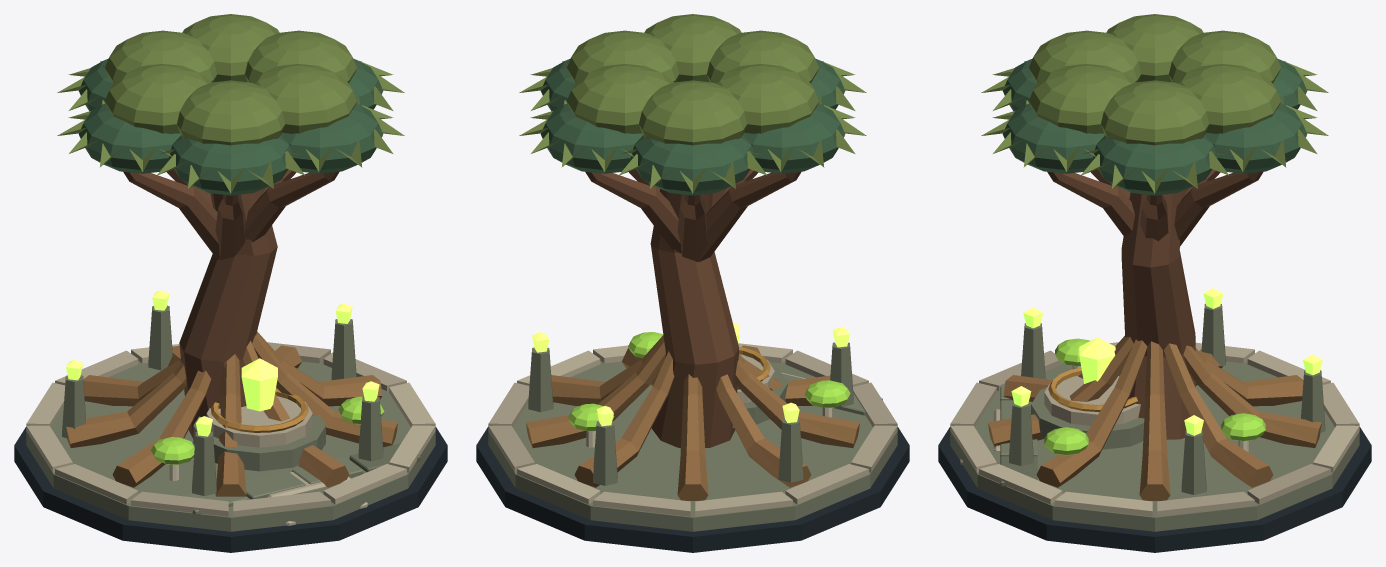
Rendered from nature__bosque__L10.glb.
The picture shows the model from 3 angles, left to right: view 1: azimuth 30°, elevation 25°; view 2: azimuth 150°, elevation 25°; view 3: azimuth 270°, elevation 25°; orthographic projection.
Parts seen in each view (by area): view 1: structure, weapon; view 2: structure; view 3: structure, weapon.
Part boxes in pixels (x1,y1,x2,y2): structure: (14,14,447,552); weapon: (241,358,277,411); structure: (476,14,909,552); structure: (938,14,1371,552); weapon: (1079,337,1115,383).
Bounding box in the file's own units: 0.8624 × 0.8892 × 0.8624.
